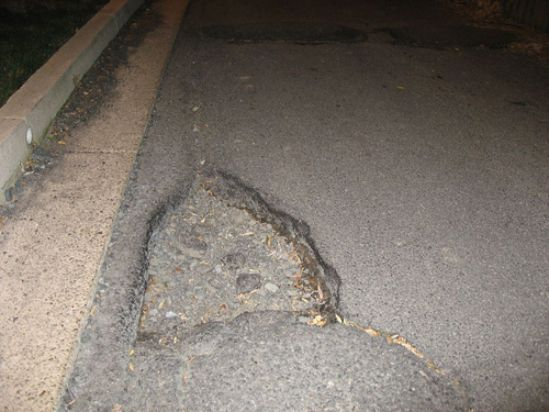pothole: (119, 158, 345, 352)
